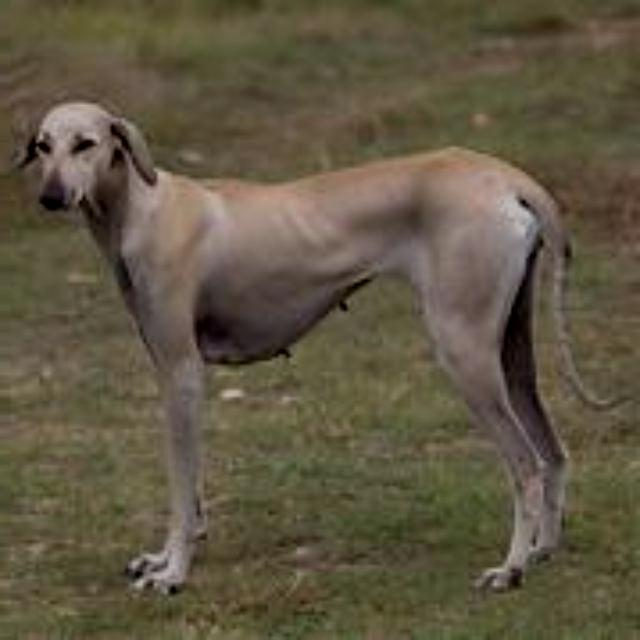dog: (0, 63, 582, 640)
